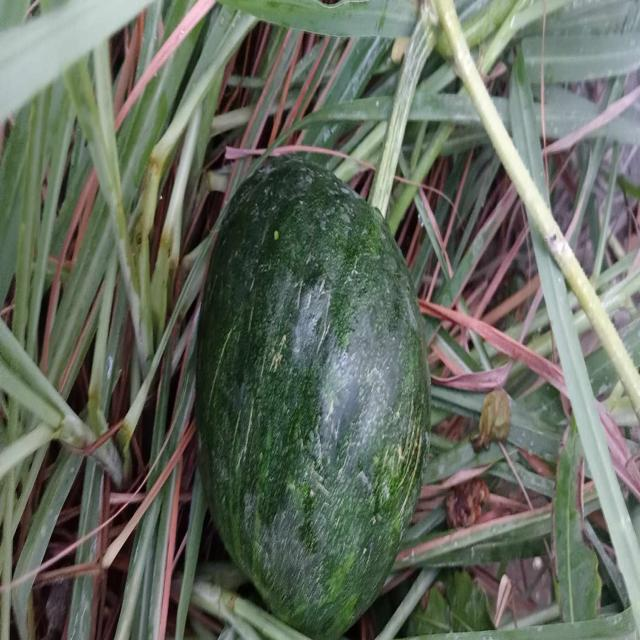squash: (195, 152, 429, 640)
